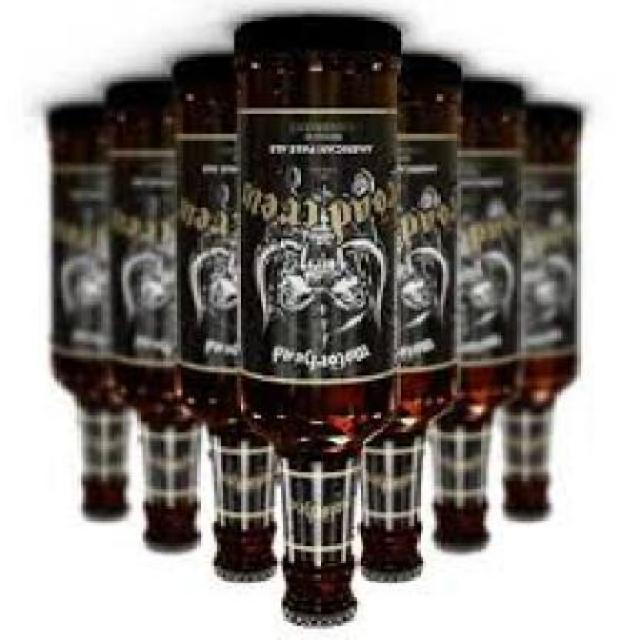GLASS: (234, 17, 403, 614), (172, 54, 279, 574), (360, 59, 460, 572), (432, 80, 528, 546), (108, 80, 203, 546), (51, 108, 138, 514), (512, 111, 579, 518)
METAL: (283, 608, 360, 632), (363, 574, 426, 586), (439, 548, 492, 558), (220, 577, 277, 586), (92, 518, 134, 527), (514, 520, 554, 529), (154, 552, 200, 558)
